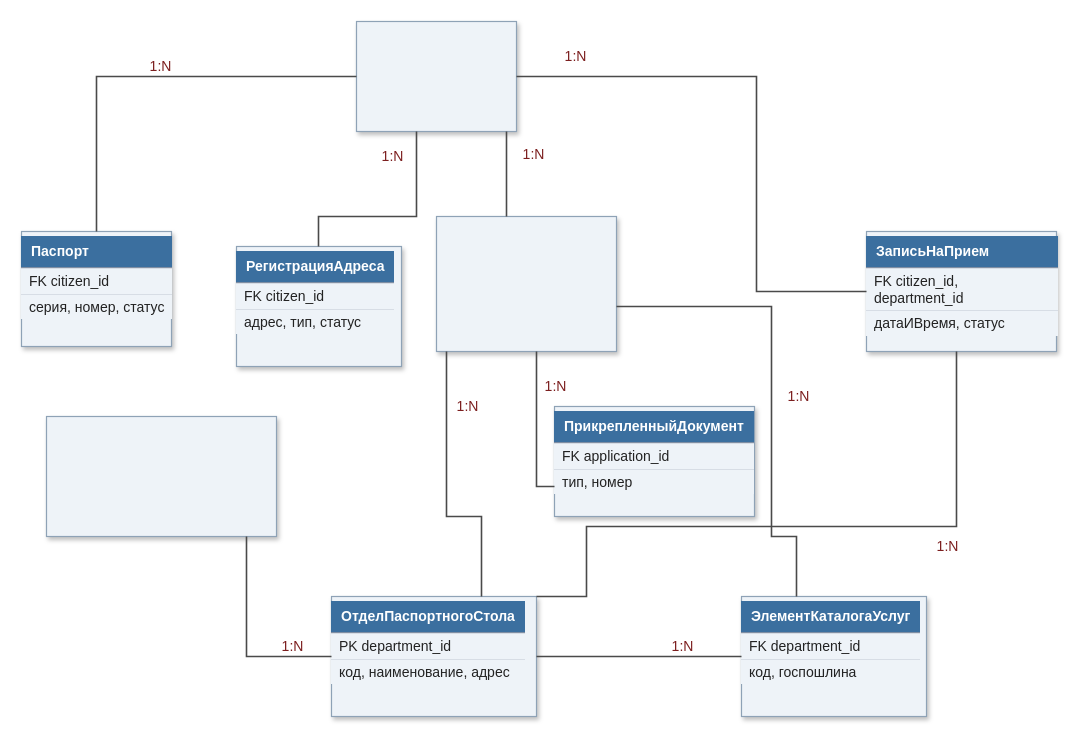
Image size: 1081x742. Some labels were removed from this diagram. The centre of each missing label's shape, as x and y in pixels:
"Гражданин PK id ФИО, дата_рождения" goes at (437,77).
"ЗаявлениеНаПаспорт FK citizen_id, service_id, department_id тип, статус" goes at (527,285).
"СотрудникПаспортногоСтола FK department_id ФИО, должность" goes at (162,477).
